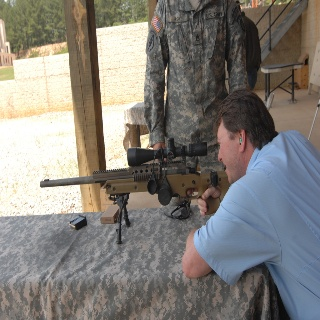rifle: (39, 137, 231, 243)
